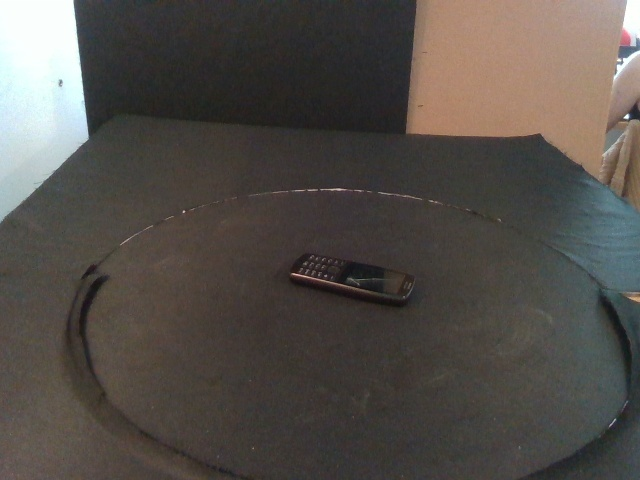phone: (288, 251, 418, 307)
